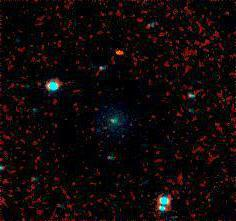star: (105, 38, 135, 68)
